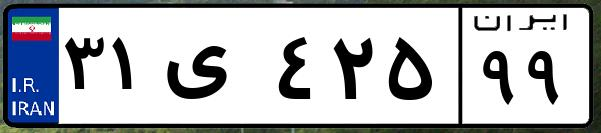1: (110, 28, 158, 98)
2: (330, 28, 385, 110)
3: (57, 26, 110, 100)
4: (270, 28, 330, 110)
5: (385, 28, 445, 110)
9: (475, 38, 525, 113), (525, 38, 570, 115)
ی: (158, 20, 270, 120)
